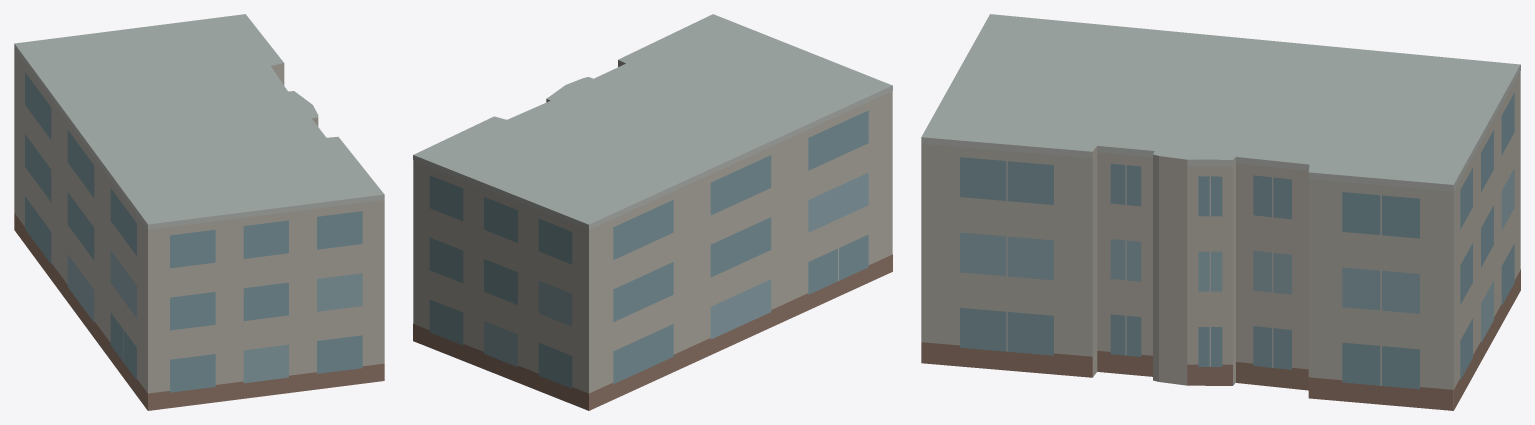
The model's file is survey-upis-32528519.glb.
3 renders of one model, left to right at view 1: azimuth 30°, elevation 25°; view 2: azimuth 150°, elevation 25°; view 3: azimuth 270°, elevation 25°, orthographic. The views are drawn at different scales.
Visible parts, largest first — view 1: survey-upis-32528519.tmp; view 2: survey-upis-32528519.tmp; view 3: survey-upis-32528519.tmp.
Part boxes in pixels (x1,y1,x2,y2): survey-upis-32528519.tmp: [14, 14, 384, 410]; survey-upis-32528519.tmp: [413, 14, 892, 410]; survey-upis-32528519.tmp: [921, 14, 1520, 410].
Size of the model in its own units: 13.8 by 8.5 by 20.45.
